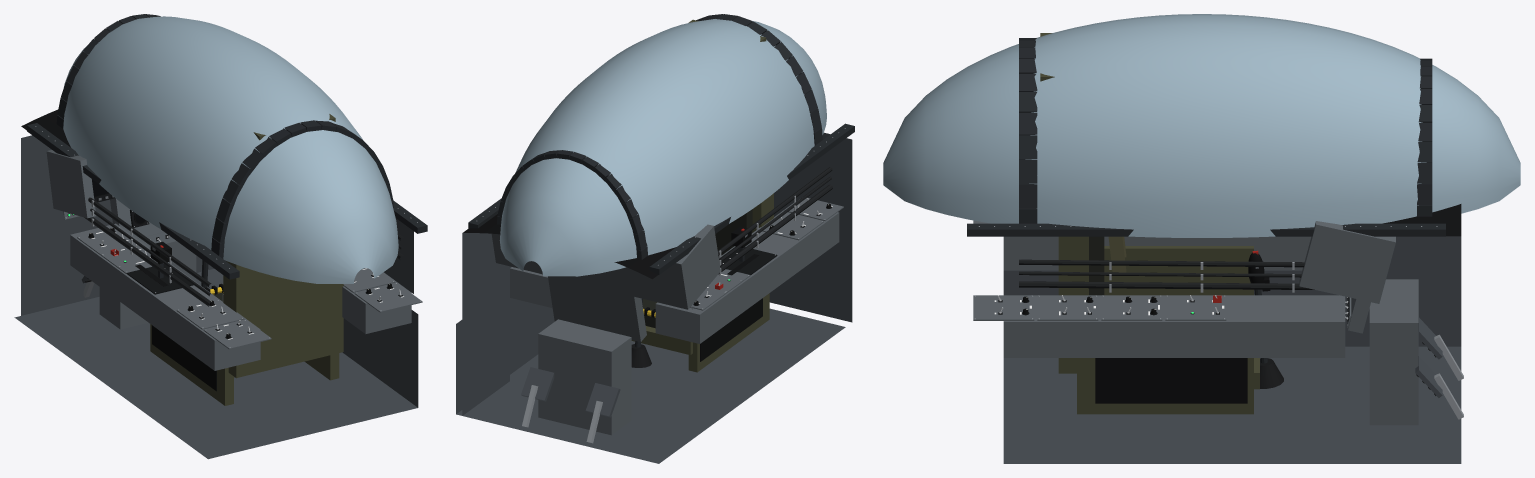
The model's file is kit_glass3.glb.
3 views of the same model, side by side, from view 1: azimuth 30°, elevation 25°; view 2: azimuth 150°, elevation 25°; view 3: azimuth 270°, elevation 25° (orthographic). The views are drawn at different scales.
Visible parts, largest first — view 1: cockpit, CANOPY_GLASS; view 2: cockpit, CANOPY_GLASS, STICK; view 3: cockpit, CANOPY_GLASS, STICK.
Boxes of the visible parts, x1=… form: cockpit: x1=14, y1=14, x2=427, y2=459; CANOPY_GLASS: x1=63, y1=16, x2=398, y2=283; cockpit: x1=456, y1=14, x2=854, y2=463; CANOPY_GLASS: x1=499, y1=19, x2=826, y2=276; STICK: x1=631, y1=298, x2=651, y2=367; cockpit: x1=967, y1=33, x2=1463, y2=463; CANOPY_GLASS: x1=883, y1=14, x2=1520, y2=237; STICK: x1=1248, y1=250, x2=1283, y2=388.
Bounding box in the file's own units: 0.94 × 1.37 × 2.09.
